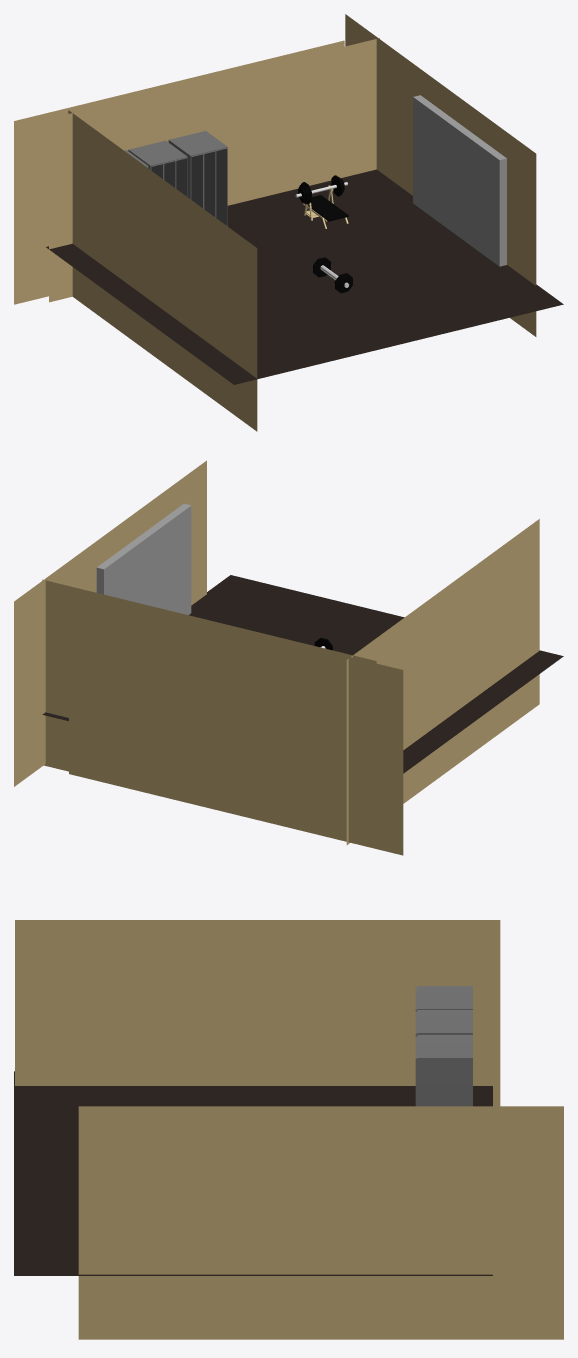
The model's file is PedroCenasHot.fbx.
3 views of the same model, one above another, from view 1: azimuth 30°, elevation 25°; view 2: azimuth 150°, elevation 25°; view 3: azimuth 270°, elevation 25° (orthographic). The views are drawn at different scales.
Parts seen in each view (by area): view 1: Plane, Plane.001, Cube, Arnarui, BANCO, PESO; view 2: Plane.001, Plane, Cube; view 3: Plane, Plane.001, Arnarui.
Part boxes in pixels (bbox=[...]): Plane: bbox=[46, 14, 563, 384]; Plane.001: bbox=[14, 40, 344, 431]; Cube: bbox=[413, 95, 506, 266]; Arnarui: bbox=[124, 130, 227, 225]; BANCO: bbox=[295, 175, 348, 228]; PESO: bbox=[313, 257, 352, 293]; Plane.001: bbox=[69, 519, 539, 855]; Plane: bbox=[14, 460, 563, 786]; Cube: bbox=[96, 503, 191, 614]; Plane: bbox=[14, 1071, 563, 1339]; Plane.001: bbox=[15, 920, 500, 1106]; Arnarui: bbox=[415, 986, 472, 1106].
Size of the model in its own units: 1044 by 512 by 1083.
